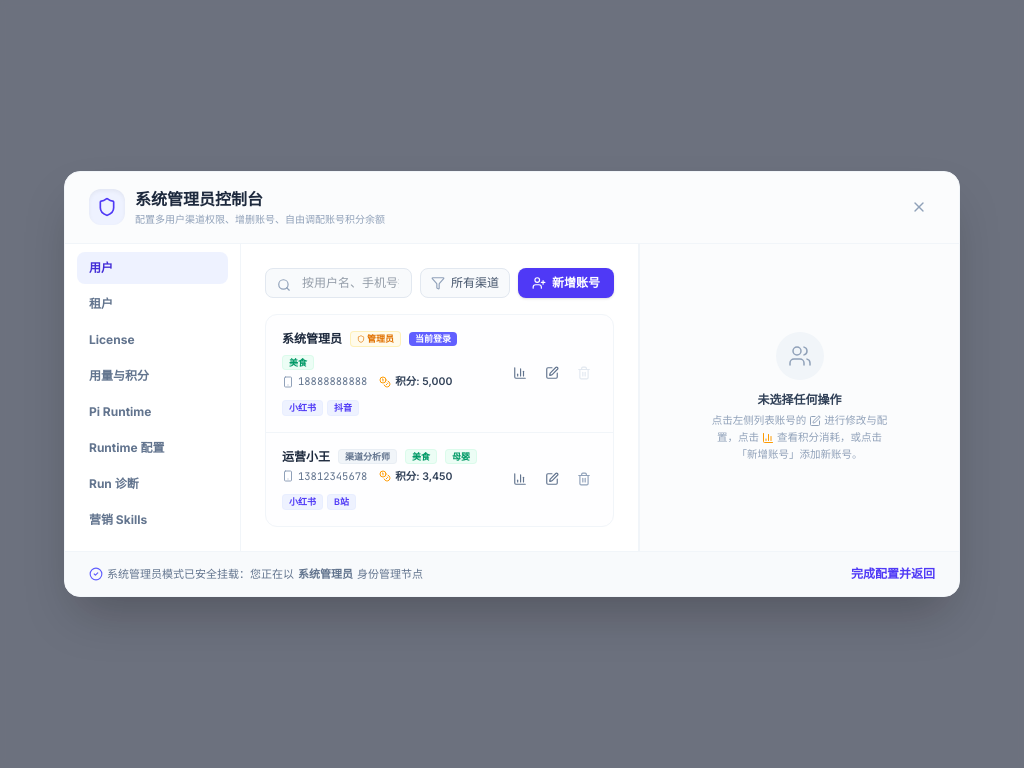
Test case: AdminPanel › 编辑自己时隐藏账号状态选项
The image size is (1024, 768).
Expected: the text "运营小王" is shown, [282,448,330,464]
What coordinates should you click on to do the following:
click the button titled "管理/修改此账号信息" in the row of "18888888888"
I would click on:
 (552, 373)
Its box is [539,360,565,386].
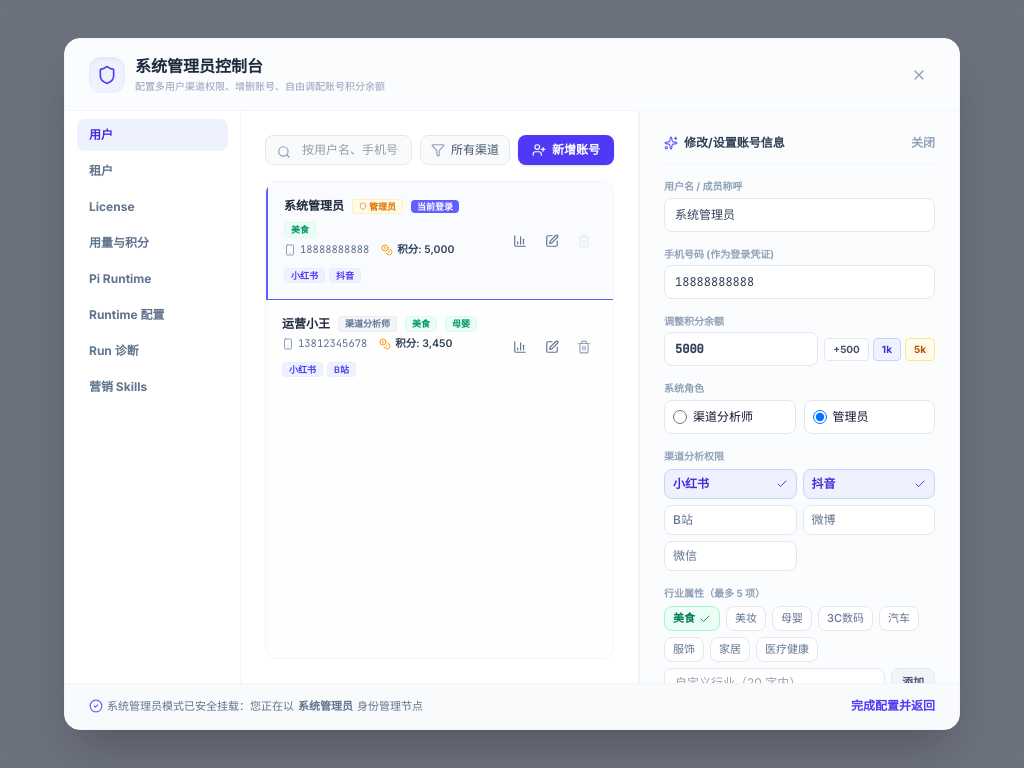
Expected: the text "账号状态" is not shown
What coordinates should you click on to do the following:
click the button "关闭"
I would click on:
 (923, 143)
Its box is [911,135,935,151].
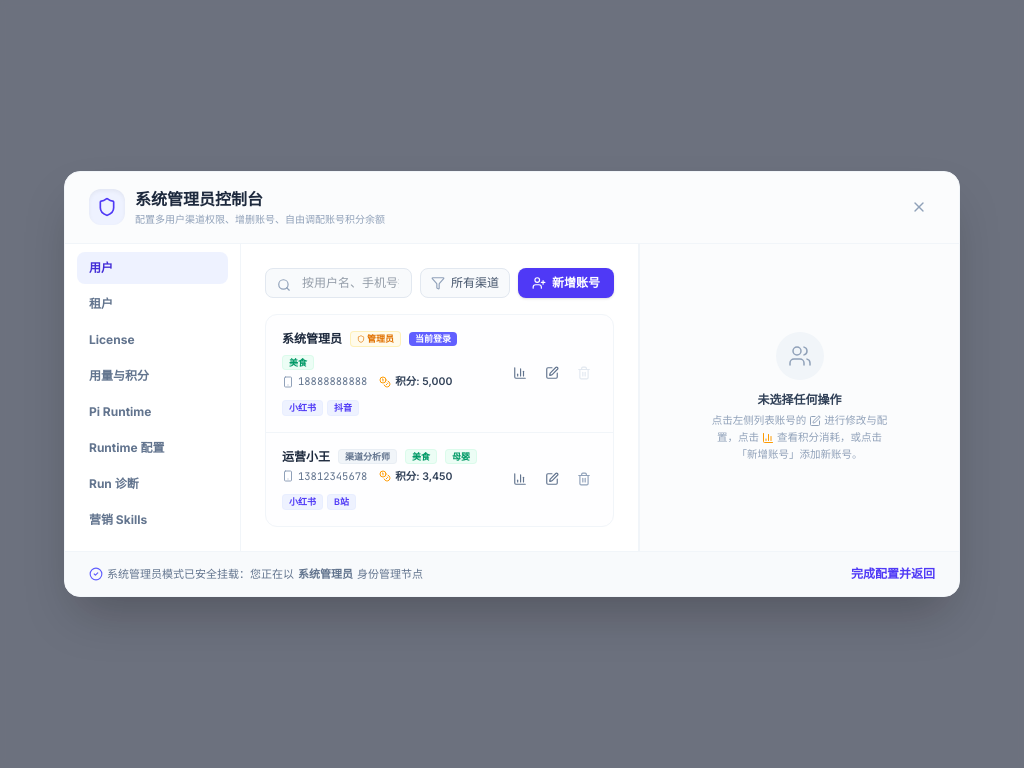
What coordinates should you click on to do the following:
click the button titled "管理/修改此账号信息" in the row of "13812345678"
I would click on:
 (552, 479)
Its box is [539,466,565,492].
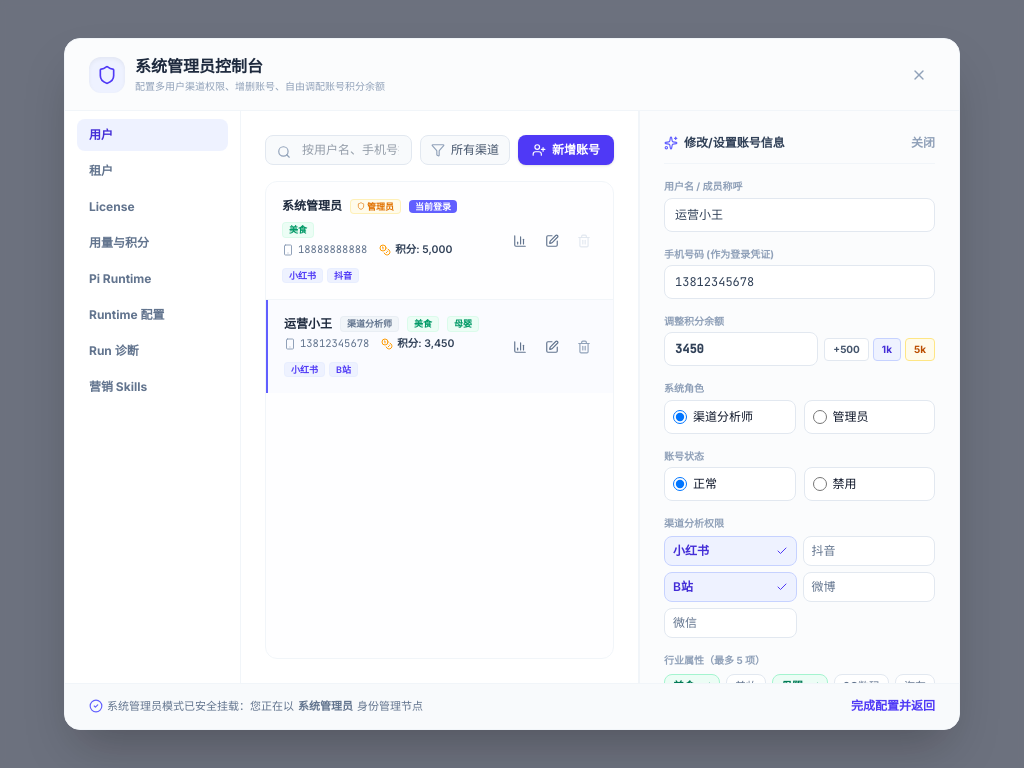
Now the text "账号状态" is shown, box [664,450,704,462]
